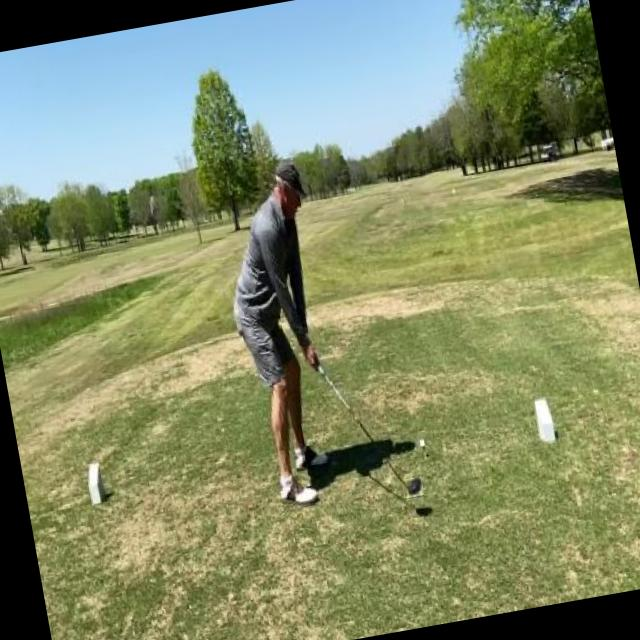club head: (402, 476, 424, 499)
